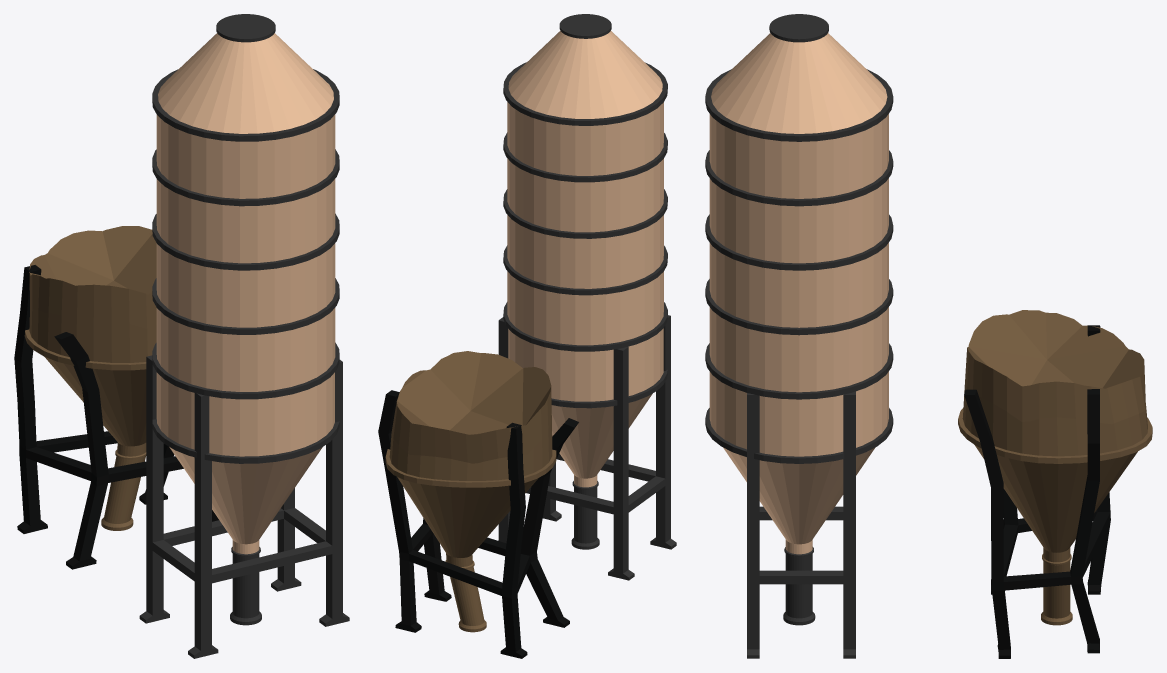
File: Silo.fbx
The picture shows the model from 3 angles, left to right: view 1: azimuth 30°, elevation 25°; view 2: azimuth 150°, elevation 25°; view 3: azimuth 270°, elevation 25°; orthographic projection. The views are drawn at different scales.
Visible parts, largest first — view 1: Silo_new, Silo_new.001; view 2: Silo_new, Silo_new.001; view 3: Silo_new, Silo_new.001.
Part boxes in pixels (<box>): Silo_new: <box>139,14,349,658</box>; Silo_new.001: <box>14,226,218,569</box>; Silo_new: <box>498,14,676,580</box>; Silo_new.001: <box>378,351,578,658</box>; Silo_new: <box>705,14,893,658</box>; Silo_new.001: <box>958,310,1152,658</box>.
Size of the model in its own units: 227 by 732 by 499.
